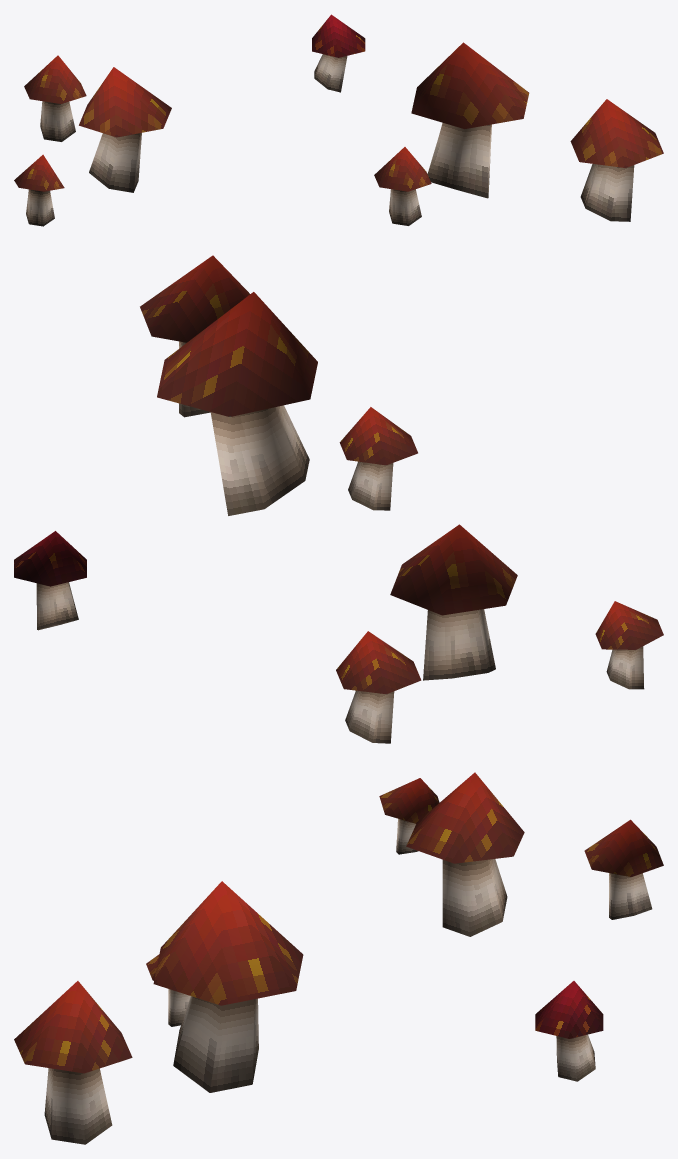
The model's file is Grass07.obj.
The picture shows the model from 3 angles, top to bottom: view 1: azimuth 30°, elevation 25°; view 2: azimuth 150°, elevation 25°; view 3: azimuth 270°, elevation 25°; orthographic projection. The views are drawn at different scales.
Parts seen in each view (by area): view 1: Mesh_0; view 2: Mesh_0; view 3: Mesh_0.
Boxes of the visible parts, <box> form: Mesh_0: <box>14,14,663,226</box>; Mesh_0: <box>14,255,663,743</box>; Mesh_0: <box>14,772,663,1144</box>.
Bounding box in the file's own units: 1.19 × 0.3504 × 1.03.
1 material, 1 textured.
